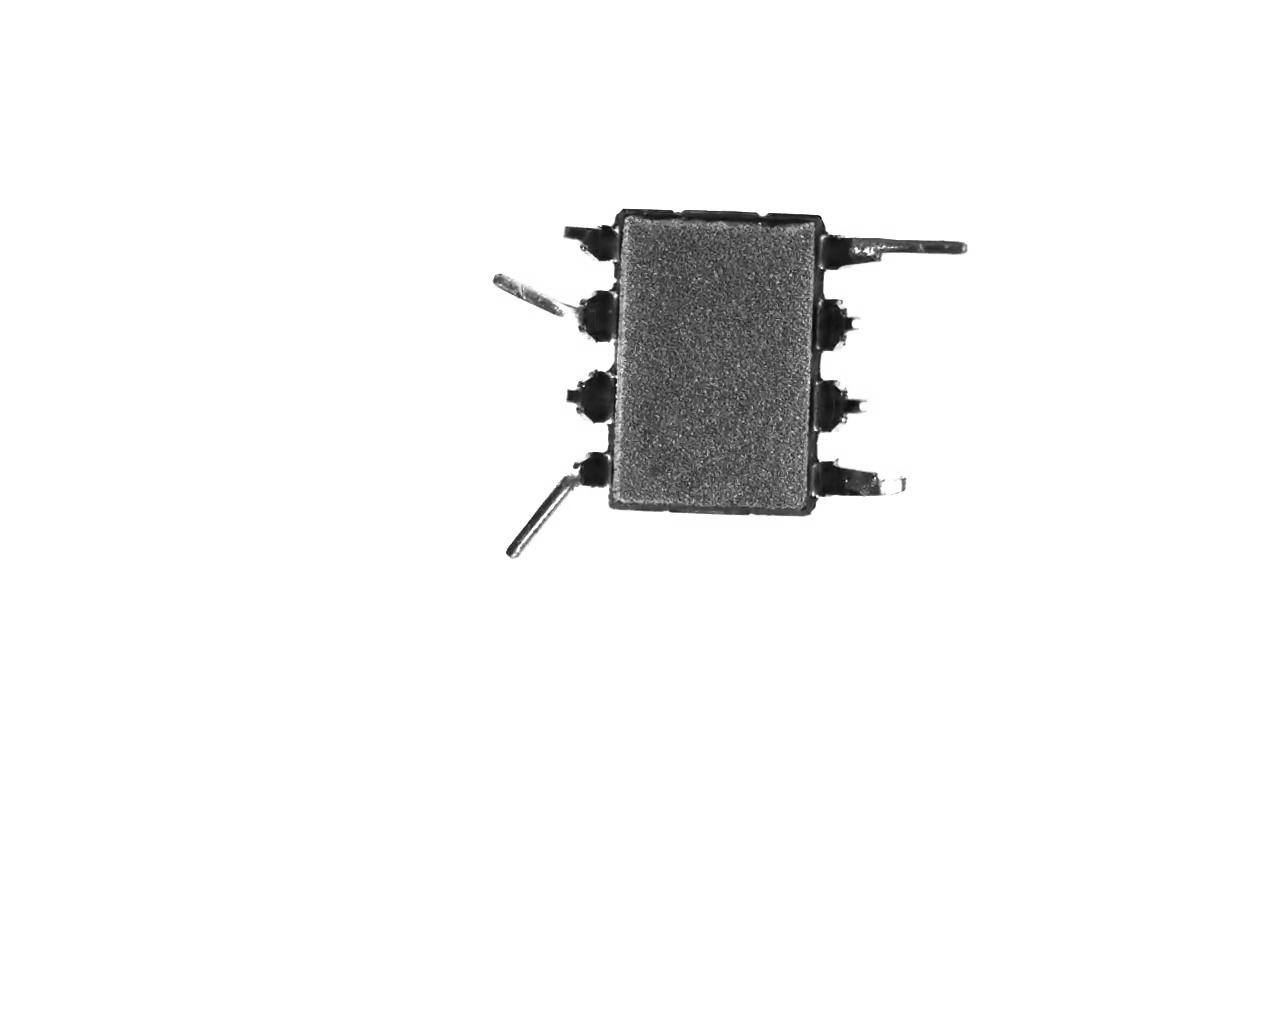Leg: (481, 447, 614, 563), (473, 260, 621, 354), (818, 226, 973, 270), (815, 460, 922, 514)
brokenLeg: (795, 373, 876, 441), (552, 215, 629, 269), (556, 370, 622, 427), (812, 293, 866, 360)
